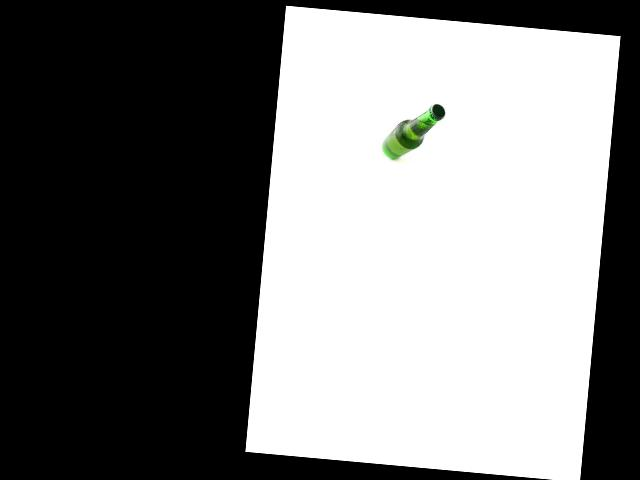beer: (381, 99, 446, 163)
